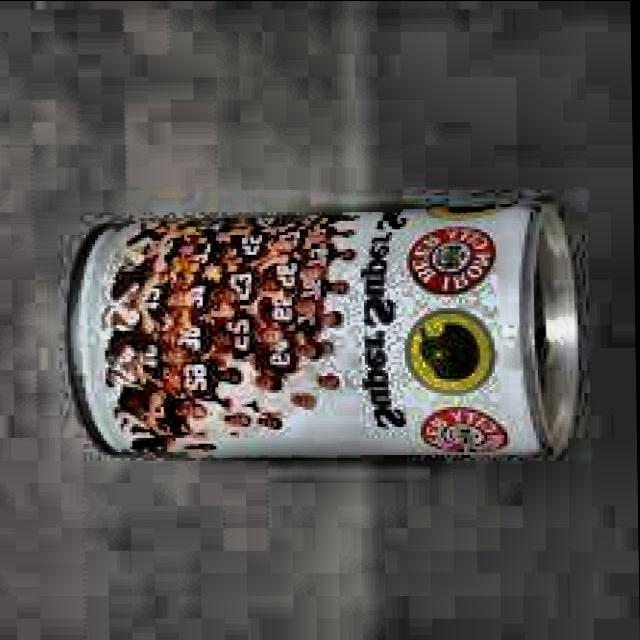Aluminum Can: (61, 192, 588, 466)
